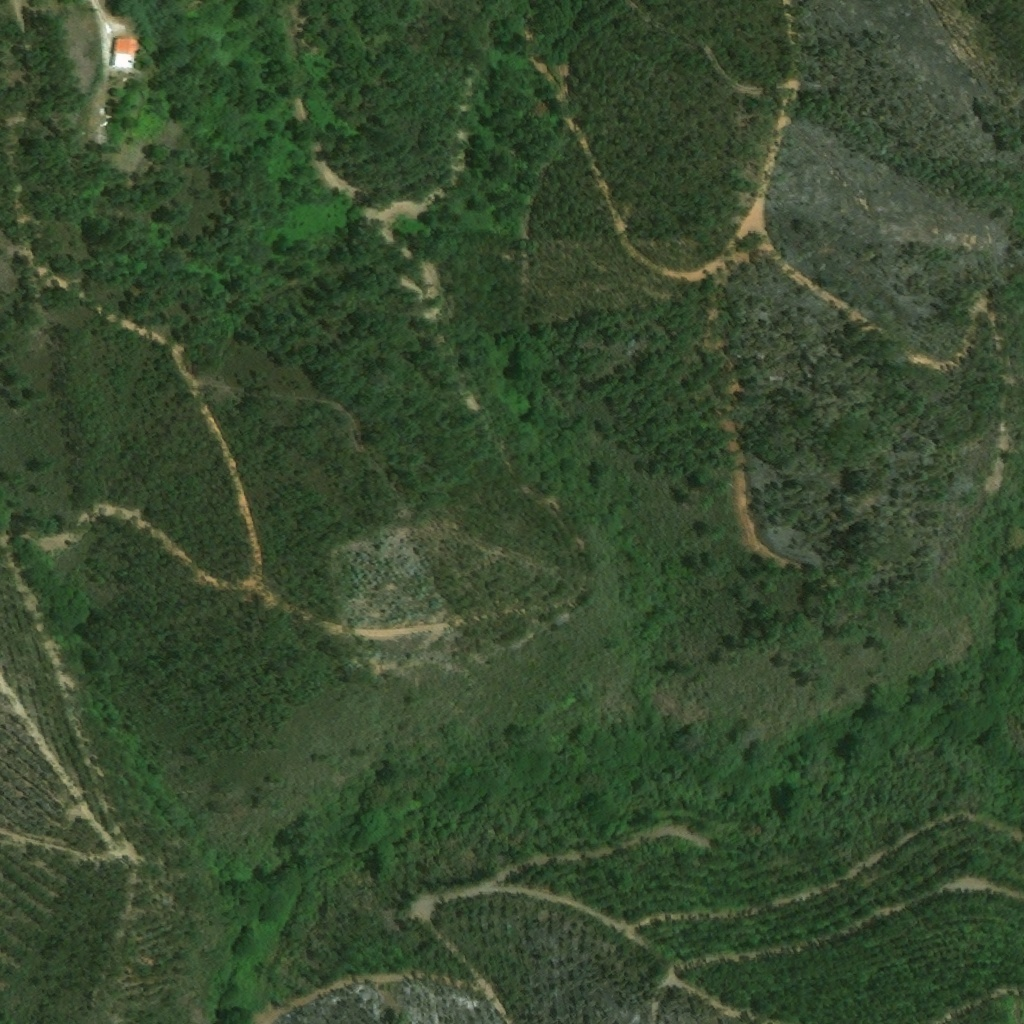0 no-damage: (108, 35, 130, 65)
